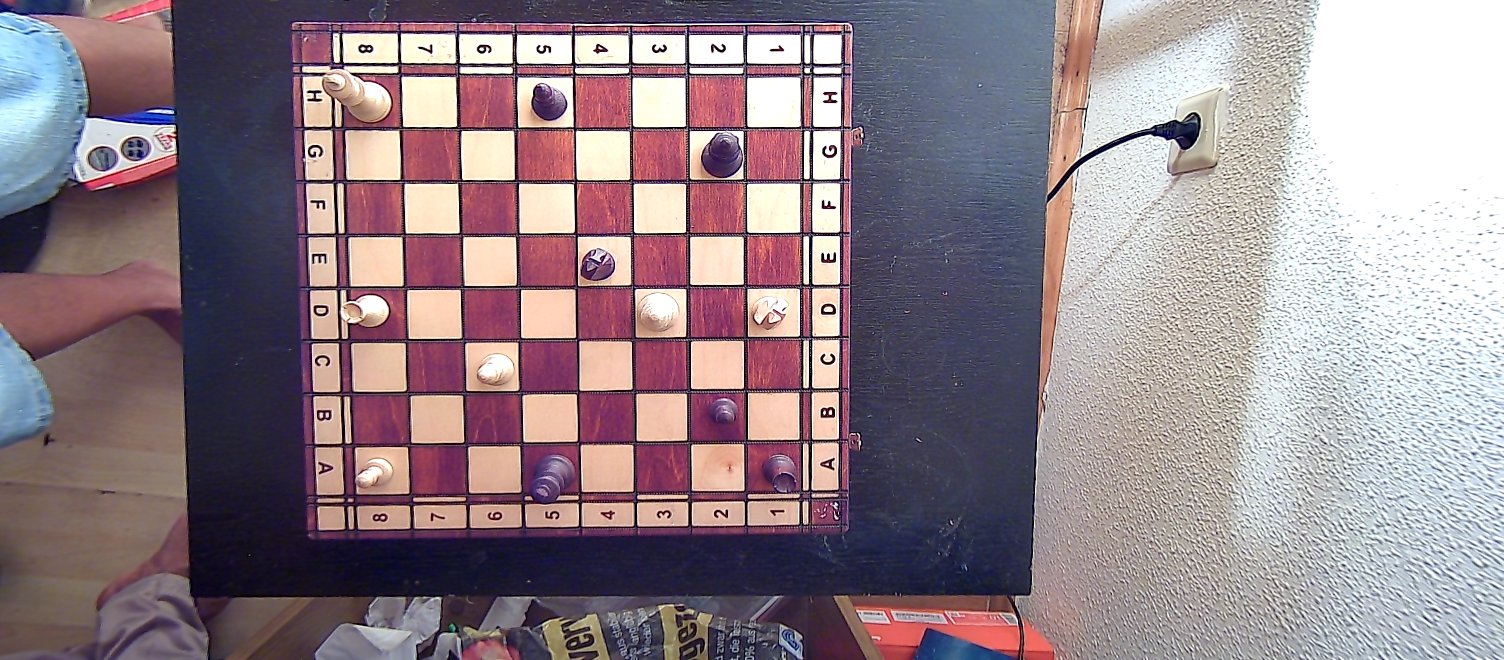black-bishop: (527, 80, 569, 124)
black-king: (533, 453, 577, 503)
black-knight: (577, 244, 619, 283)
black-pawn: (707, 393, 742, 429)
black-queen: (699, 128, 745, 178)
black-rook: (762, 452, 801, 496)
white-bishop: (472, 351, 515, 388)
white-king: (320, 67, 391, 123)
white-knight: (750, 292, 791, 330)
white-pawn: (354, 457, 395, 491)
white-queen: (635, 290, 681, 334)
white-rook: (339, 292, 393, 331)
